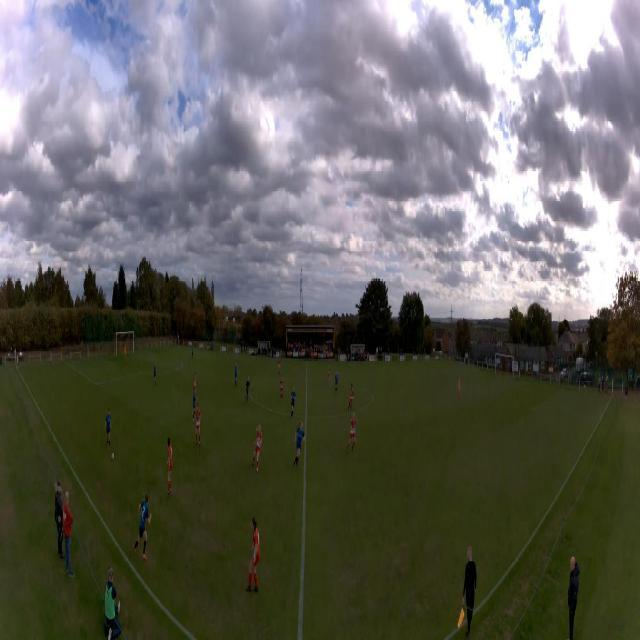ball: (111, 452, 114, 460)
player: (133, 492, 152, 561), (245, 516, 260, 594), (294, 421, 306, 469), (252, 425, 263, 475), (346, 411, 357, 453), (166, 437, 173, 498), (105, 408, 111, 452), (195, 403, 201, 447), (347, 383, 354, 414), (291, 385, 297, 419), (335, 371, 341, 396), (245, 376, 250, 405), (192, 387, 196, 422), (279, 377, 284, 402), (325, 365, 331, 385), (194, 372, 198, 400), (153, 362, 157, 387), (234, 362, 238, 387), (277, 358, 281, 376), (458, 376, 461, 398), (124, 344, 127, 361), (192, 348, 194, 364), (280, 349, 282, 363)
